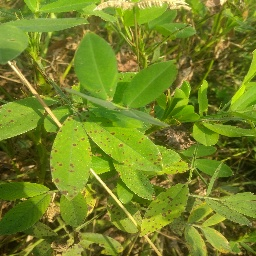GroundNut_Leaf: (69, 30, 119, 102), (91, 125, 167, 172), (48, 115, 91, 192), (138, 182, 190, 237), (123, 58, 181, 107), (5, 16, 86, 32), (57, 194, 91, 228), (1, 180, 43, 200), (155, 22, 197, 40)
